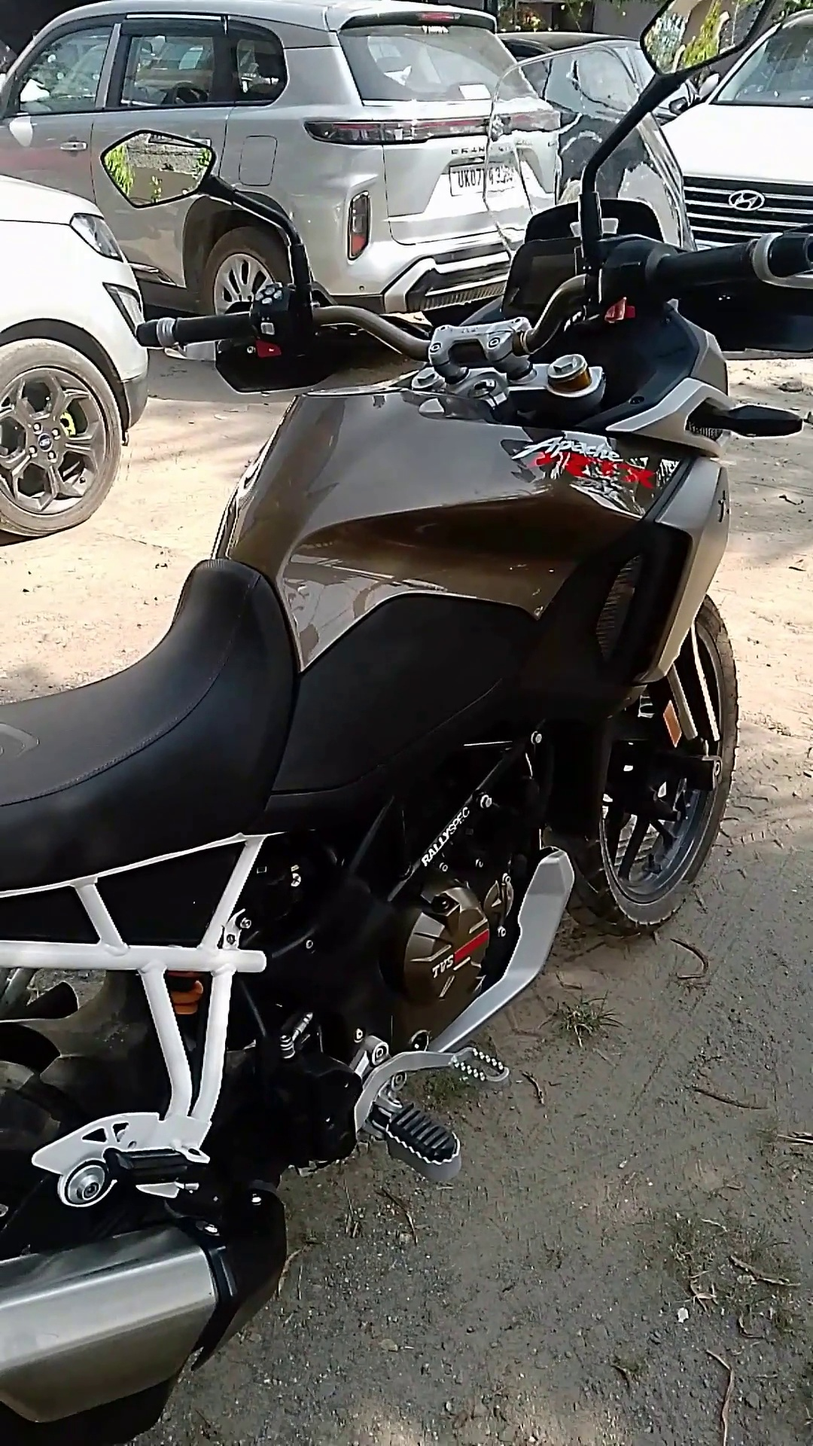bike-engine: (380, 870, 522, 1065)
bike-engine-level: (403, 1027, 429, 1055)
